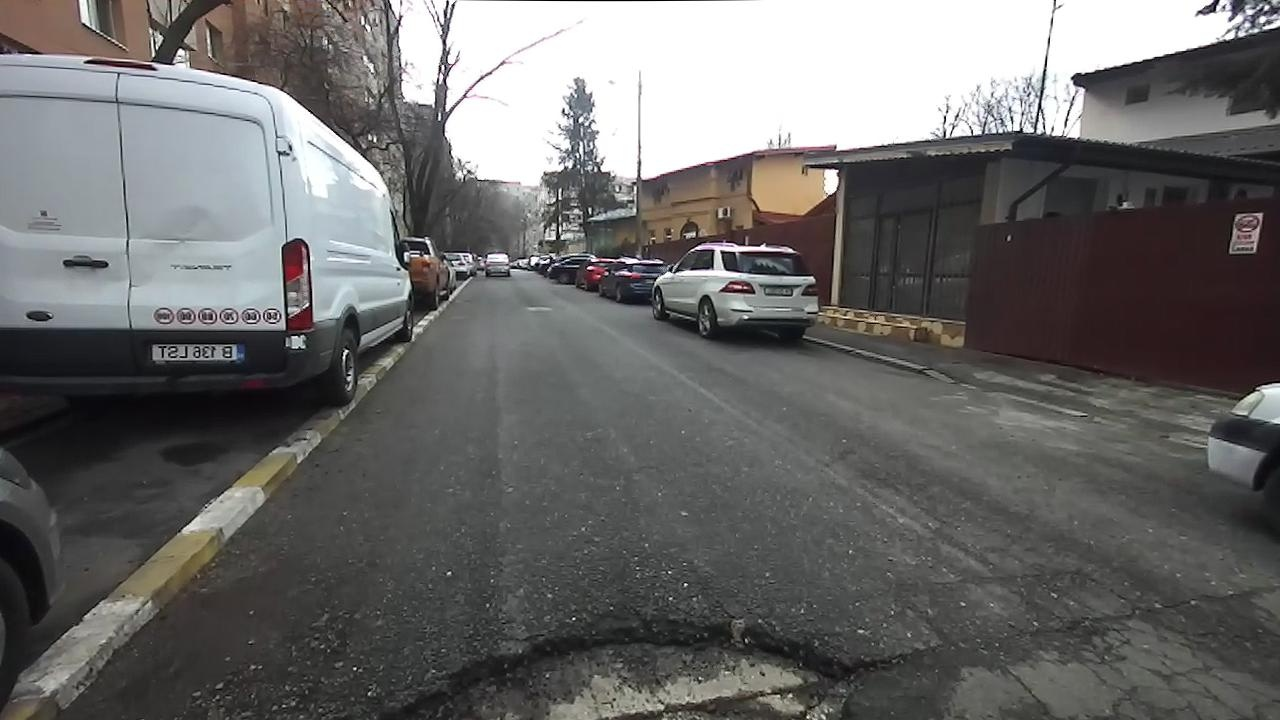pothole: (356, 600, 897, 720)
